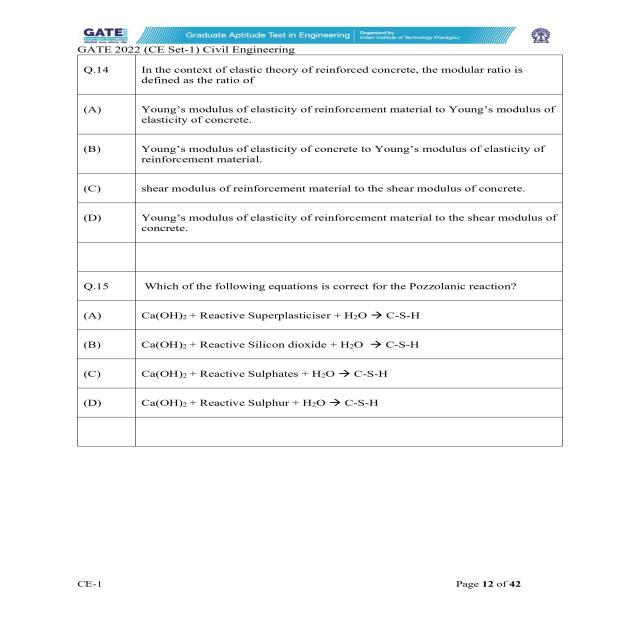Answer_Block: (77, 96, 560, 240), (79, 301, 562, 416)
Question_Answer_Block: (78, 55, 562, 242), (78, 273, 562, 416)
Question_Block: (78, 56, 558, 92), (81, 274, 560, 298)
Question_Paper_Area: (76, 54, 564, 448)
